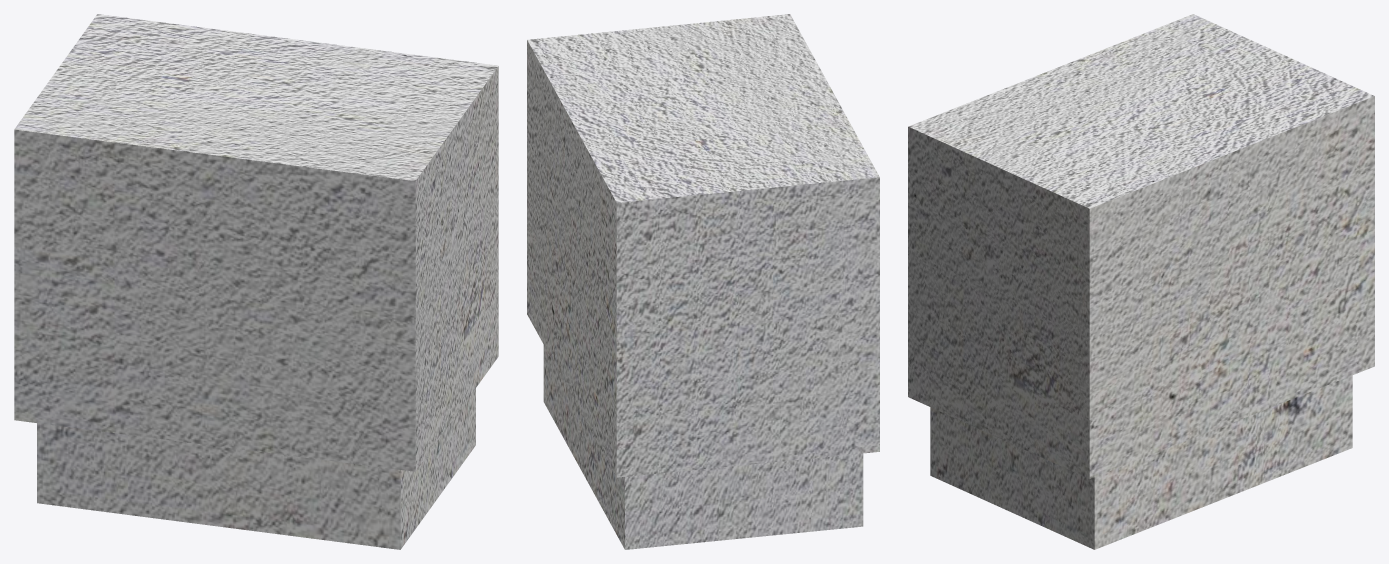
Rendered from FADU-OLD.gltf.
The picture shows the model from 3 angles, left to right: view 1: azimuth 30°, elevation 25°; view 2: azimuth 150°, elevation 25°; view 3: azimuth 270°, elevation 25°; orthographic projection. The views are drawn at different scales.
Parts seen in each view (by area): view 1: FADU; view 2: FADU; view 3: FADU.
Boxes of the visible parts, bbox=[...] form: FADU: bbox=[14, 14, 498, 549]; FADU: bbox=[527, 14, 879, 549]; FADU: bbox=[908, 14, 1374, 549].
Size of the model in its own units: 1.18 by 0.9905 by 1.2.
1 material, 1 textured.
